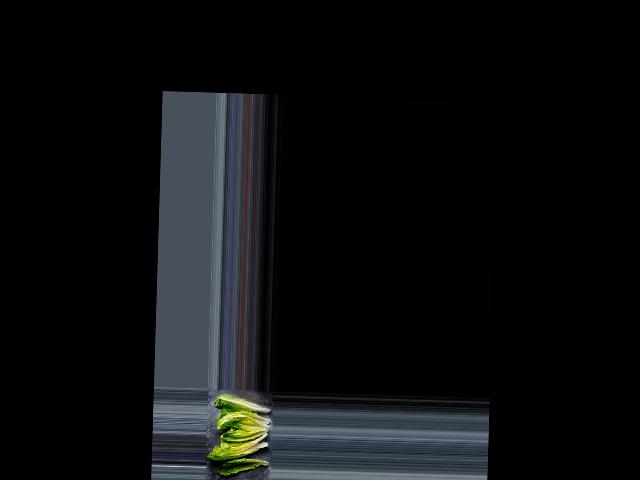lettuce: (217, 456, 270, 475)
